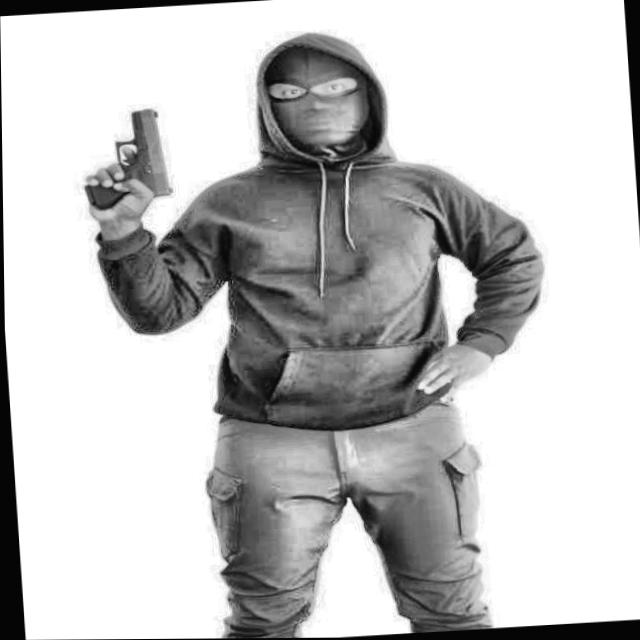pistol: (72, 100, 178, 223)
robbery: (71, 19, 561, 638)
